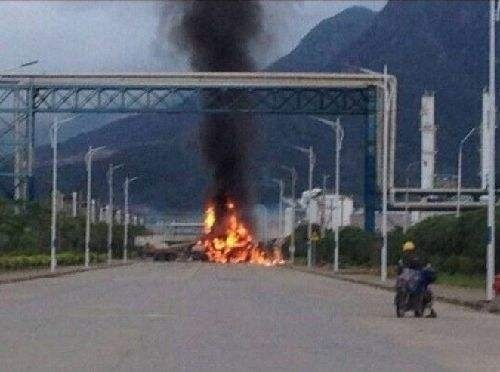fire: (198, 197, 286, 267)
